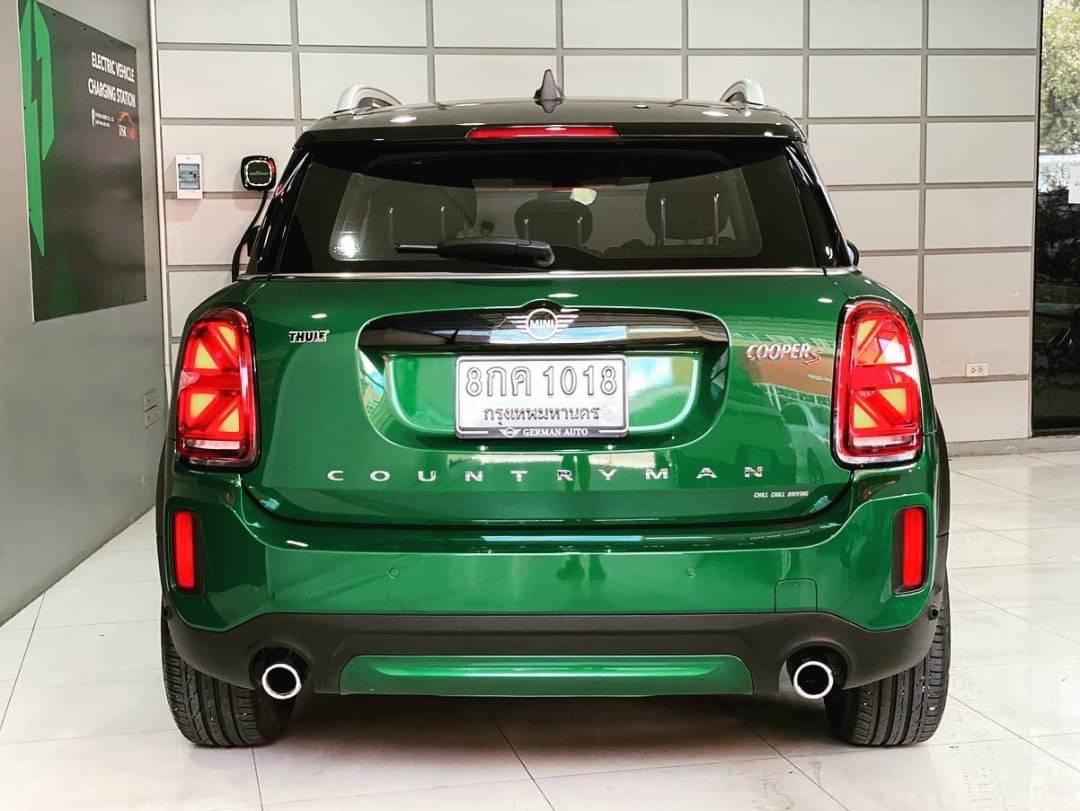license-plate: (446, 341, 637, 450)
